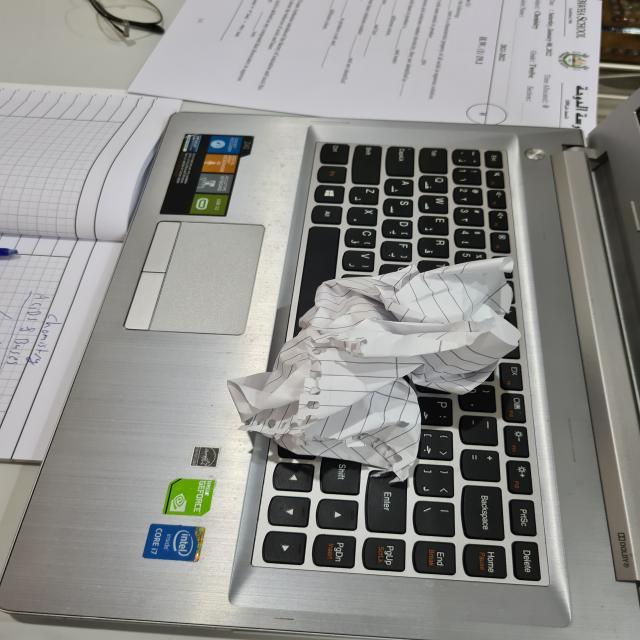Paper: (220, 254, 530, 488)
